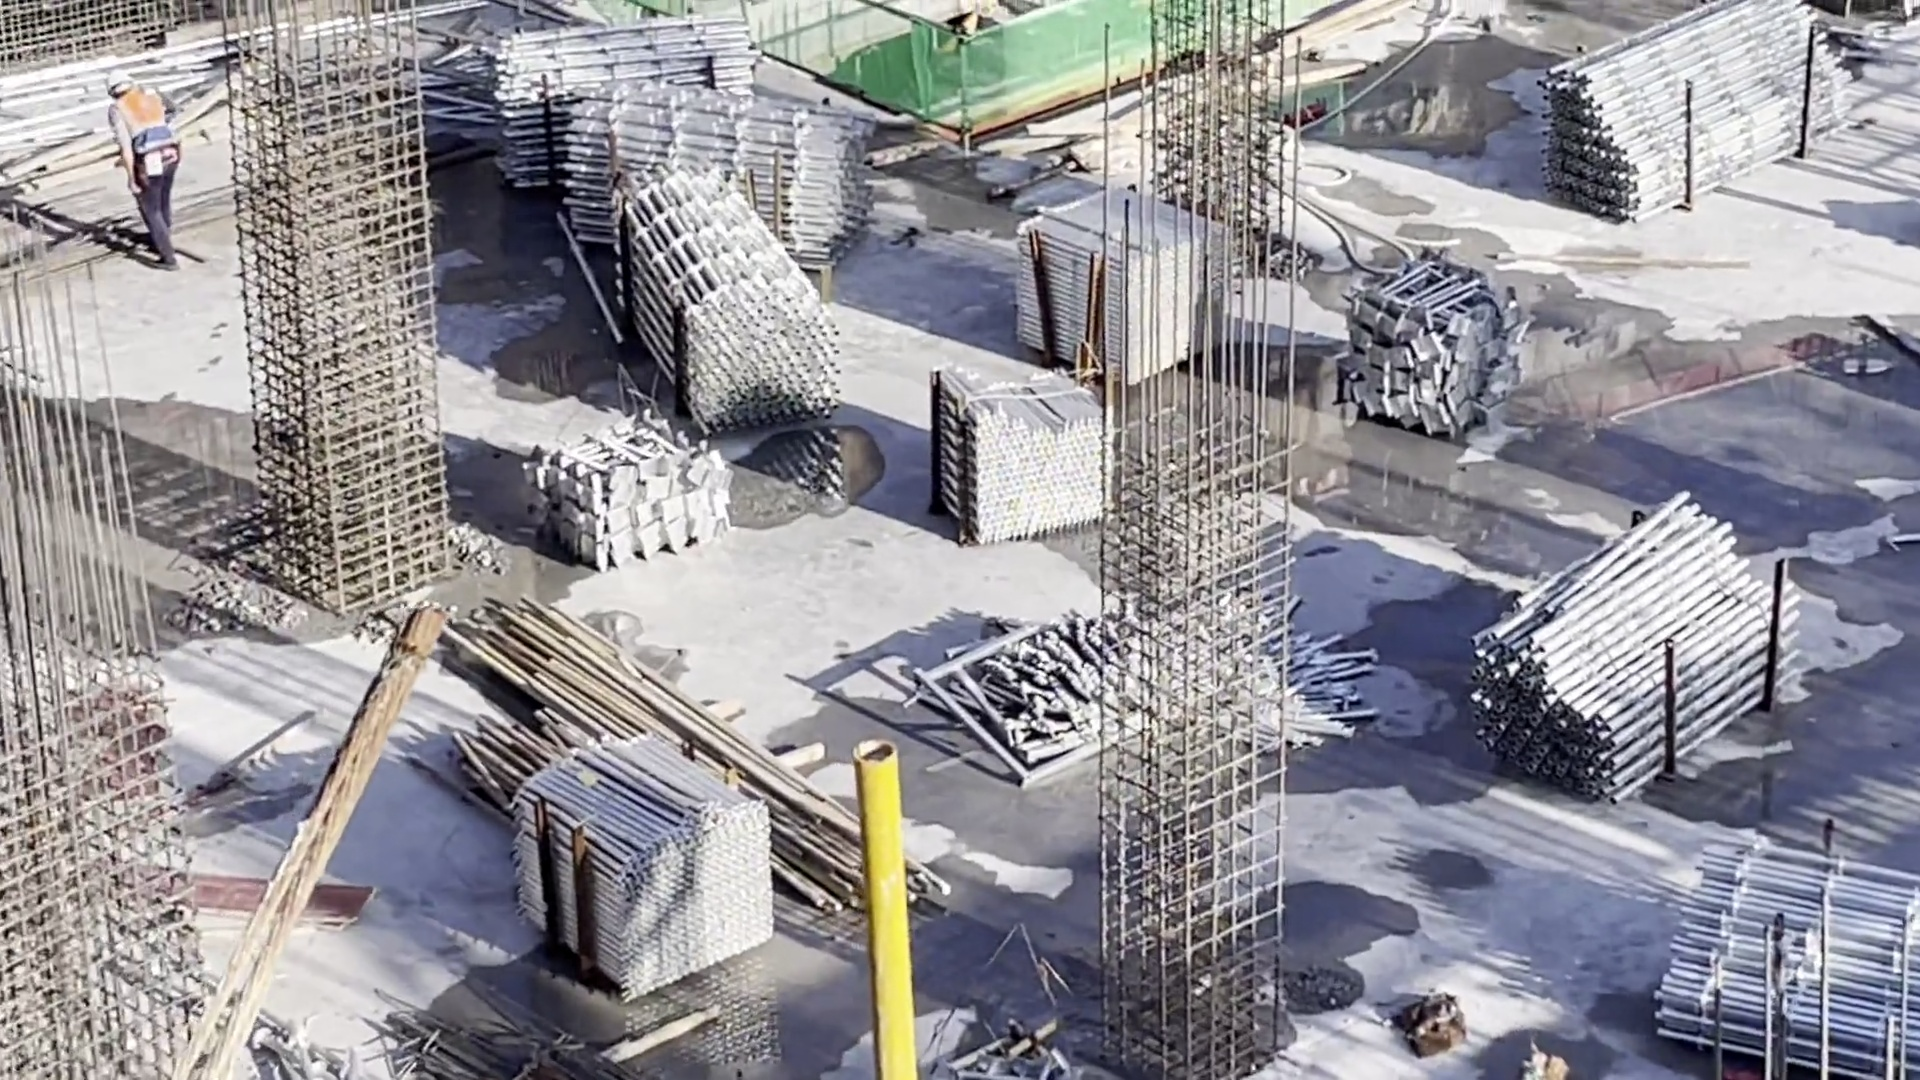helmet: (103, 72, 133, 91)
person: (101, 66, 183, 271)
scaffold: (968, 601, 1362, 785), (1483, 536, 1757, 765), (1551, 1, 1829, 212), (1657, 848, 1920, 1054), (522, 758, 763, 978), (499, 32, 768, 183), (643, 205, 804, 421), (575, 111, 844, 208), (930, 397, 1110, 542), (1051, 215, 1211, 363)
vest: (115, 96, 173, 154)
